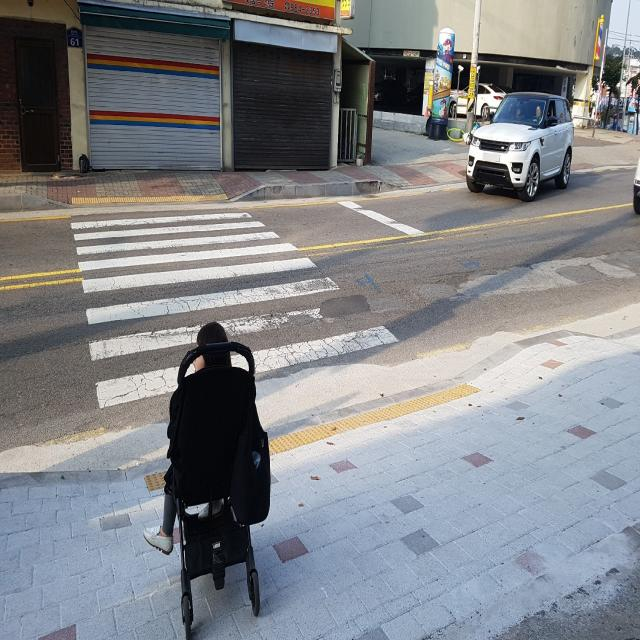횡단보도: (70, 211, 398, 412)
